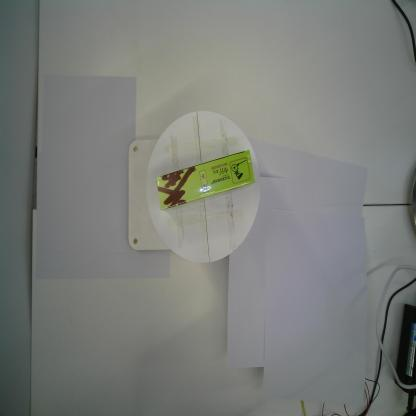Instant Drink: (154, 148, 257, 211)
